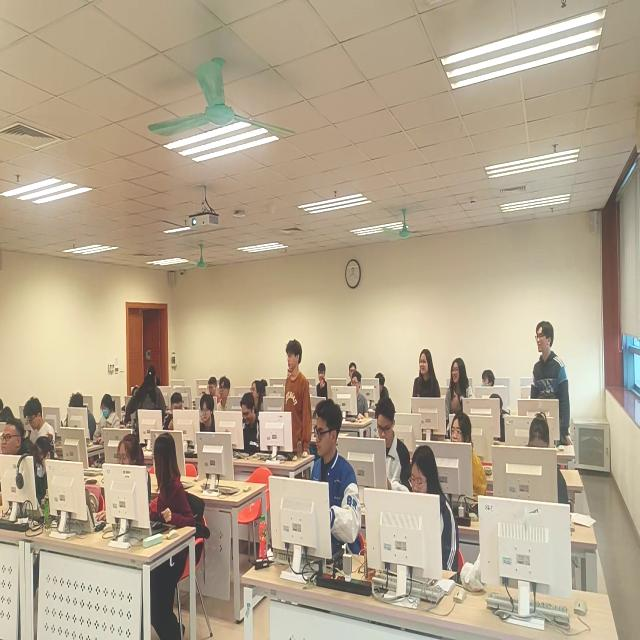raise_head: (313, 398, 361, 566), (1, 414, 36, 516), (451, 410, 489, 503), (317, 358, 329, 401), (252, 376, 266, 408), (220, 376, 233, 408), (481, 368, 496, 391), (349, 360, 359, 381)
stand: (524, 319, 574, 445), (282, 337, 314, 461), (446, 353, 475, 436), (410, 344, 441, 421), (134, 365, 166, 435)
using_computer: (407, 442, 462, 579), (91, 434, 151, 532), (524, 413, 568, 509), (375, 396, 410, 493), (34, 433, 60, 520), (24, 394, 58, 451), (66, 390, 97, 444), (94, 391, 122, 449), (241, 392, 261, 455), (490, 393, 513, 442), (348, 372, 369, 420), (196, 390, 218, 435), (169, 391, 185, 432), (375, 371, 392, 400), (206, 372, 220, 398)
